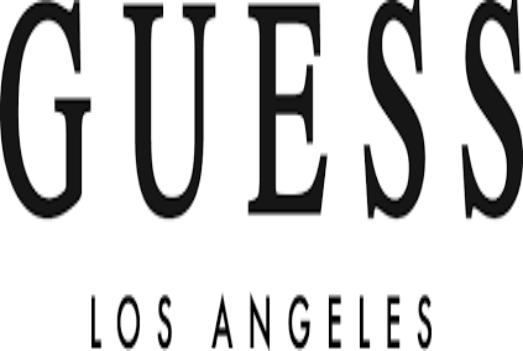GUESS: (2, 2, 523, 224)
